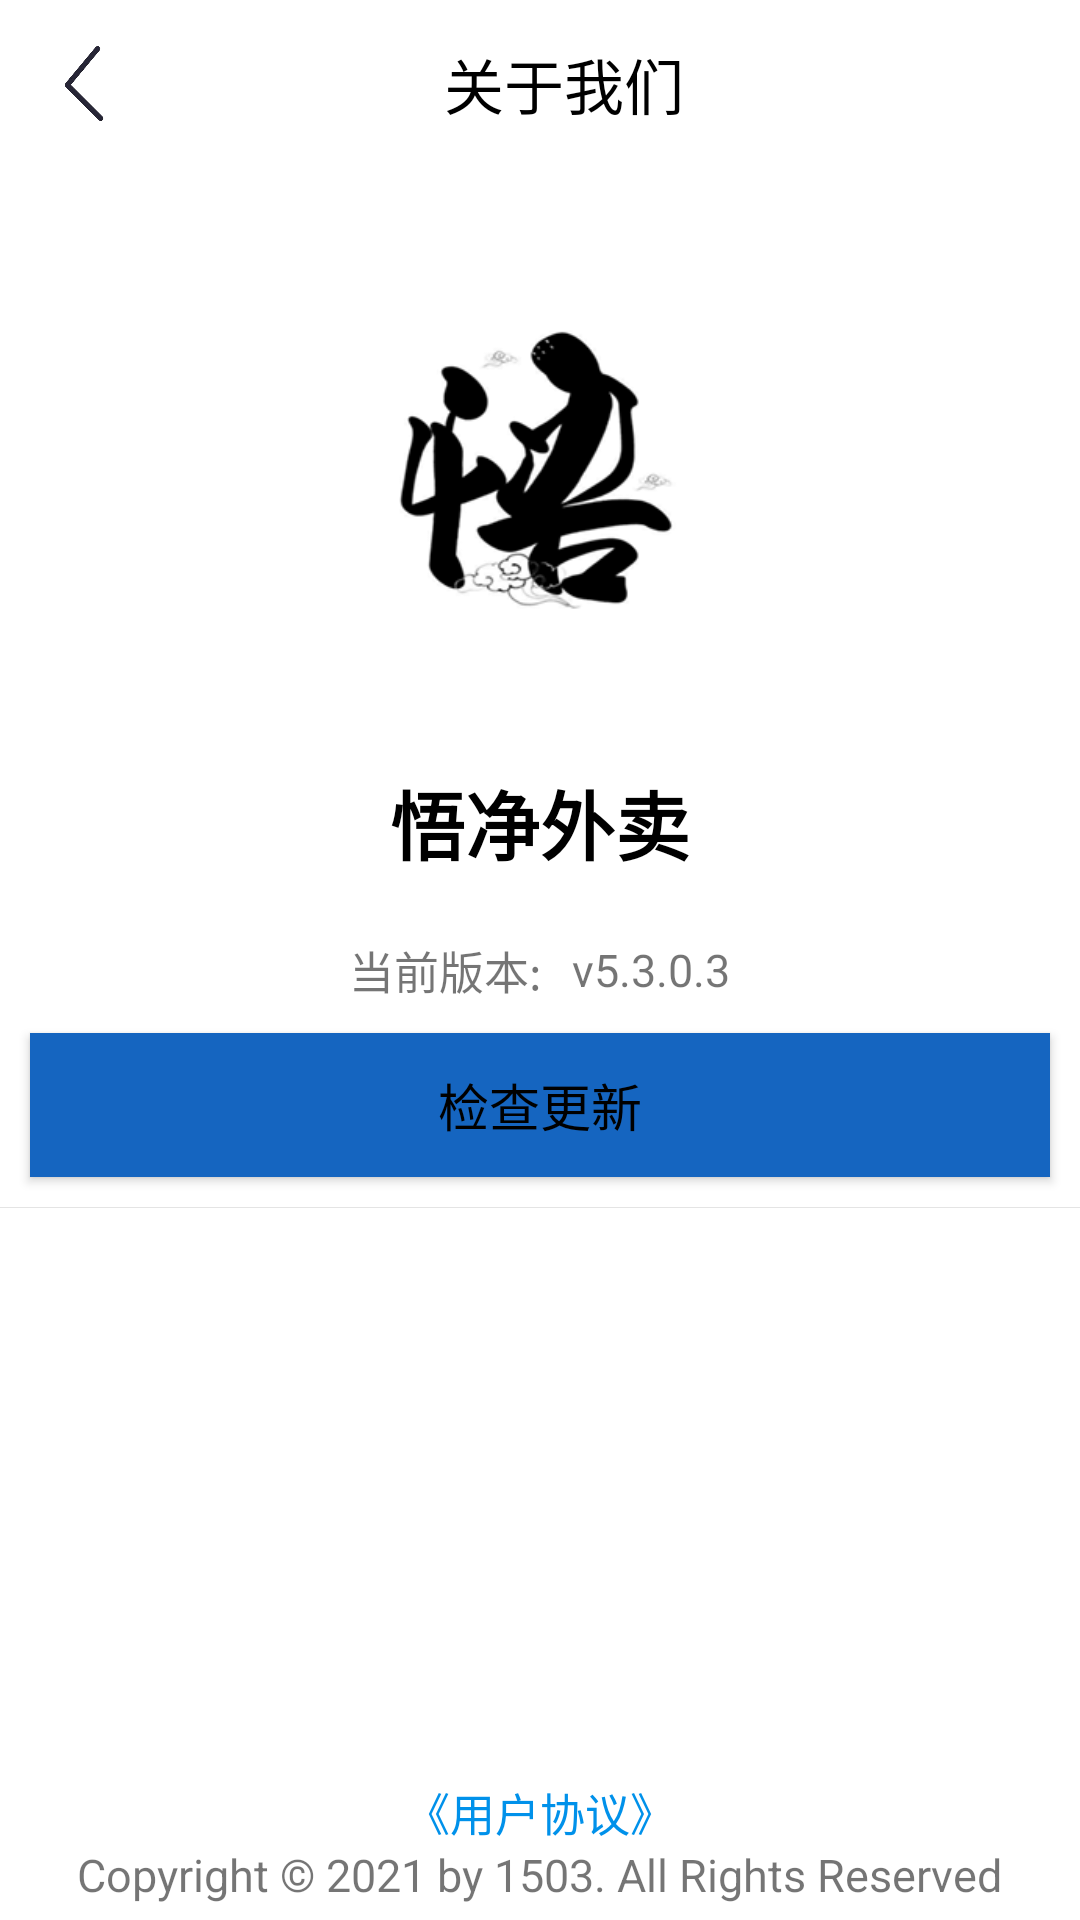

Icons on this 1080*1920 Android screen, each with the point to tap as point (x, y):
back: point (84, 83)
